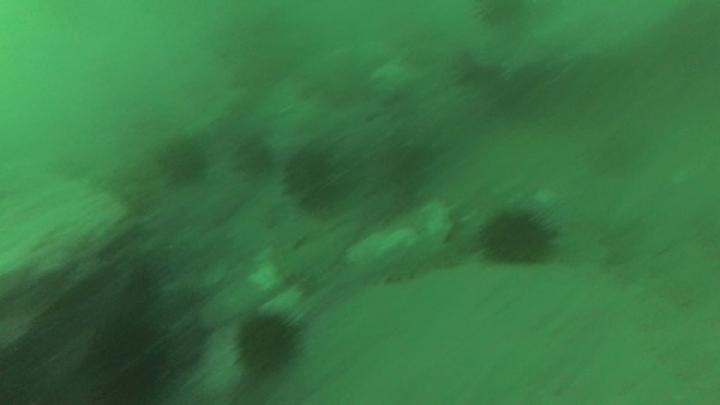echinus: (91, 327, 166, 403), (483, 214, 553, 265), (238, 320, 295, 376), (285, 152, 338, 209), (164, 142, 210, 182)
